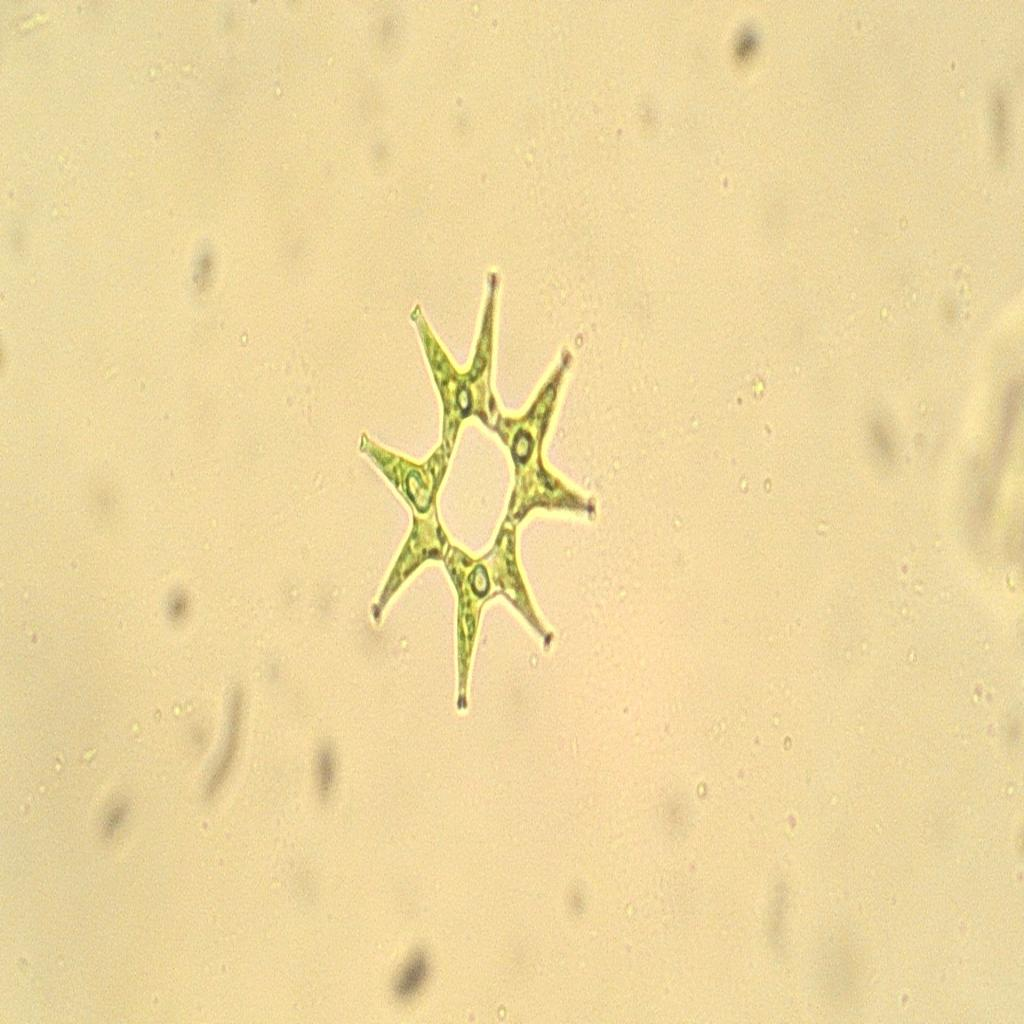Pediastrum_CO: (348, 259, 622, 720)
